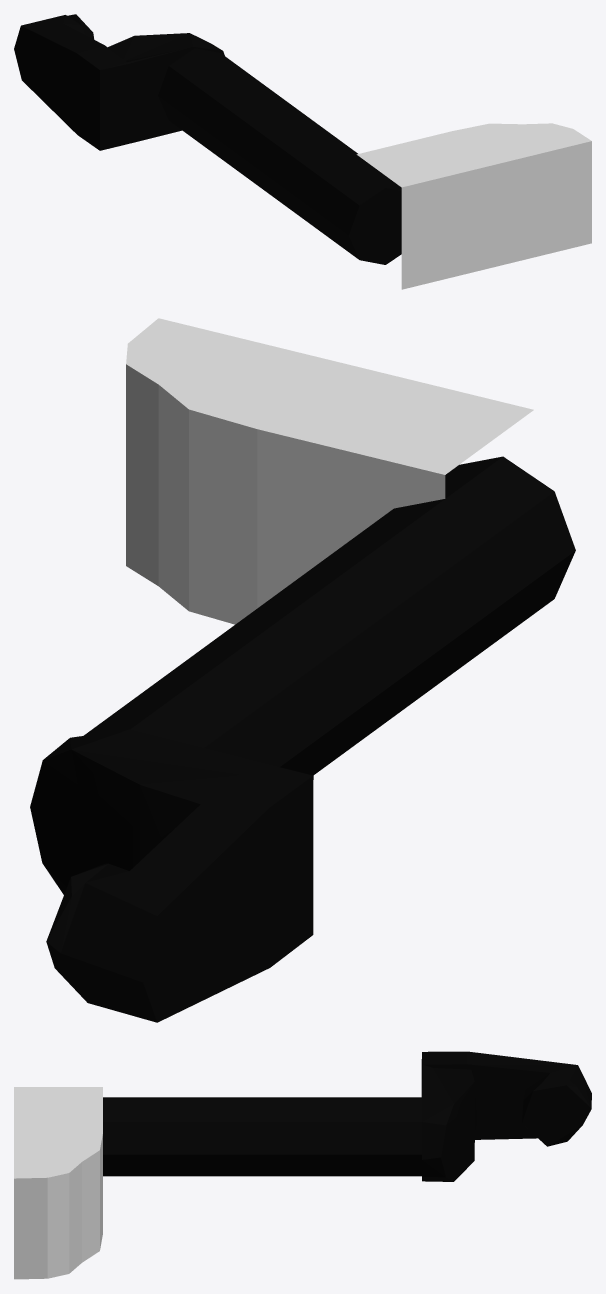
Rendered from TORSO_simplified.glb.
3 renders of one model, top to bottom at view 1: azimuth 30°, elevation 25°; view 2: azimuth 150°, elevation 25°; view 3: azimuth 270°, elevation 25°, orthographic. The views are drawn at different scales.
Parts seen in each view (by area): view 1: Cube, Cylinder, TORSO; view 2: Cube, Cylinder, TORSO; view 3: Cylinder, Cube, TORSO.
Boxes of the visible parts, box(x1,y1,x2,y2) form: Cube: box(356, 123, 591, 289); Cylinder: box(158, 48, 401, 264); TORSO: box(14, 14, 224, 150); Cube: box(126, 318, 533, 624); Cylinder: box(83, 456, 575, 775); TORSO: box(30, 729, 313, 1022); Cylinder: box(103, 1097, 421, 1176); Cube: box(14, 1087, 102, 1279); TORSO: box(421, 1051, 591, 1181).
Size of the model in its own units: 0.2414 by 0.0826 by 0.4289.
Materials: 2 (2 with a texture image).
